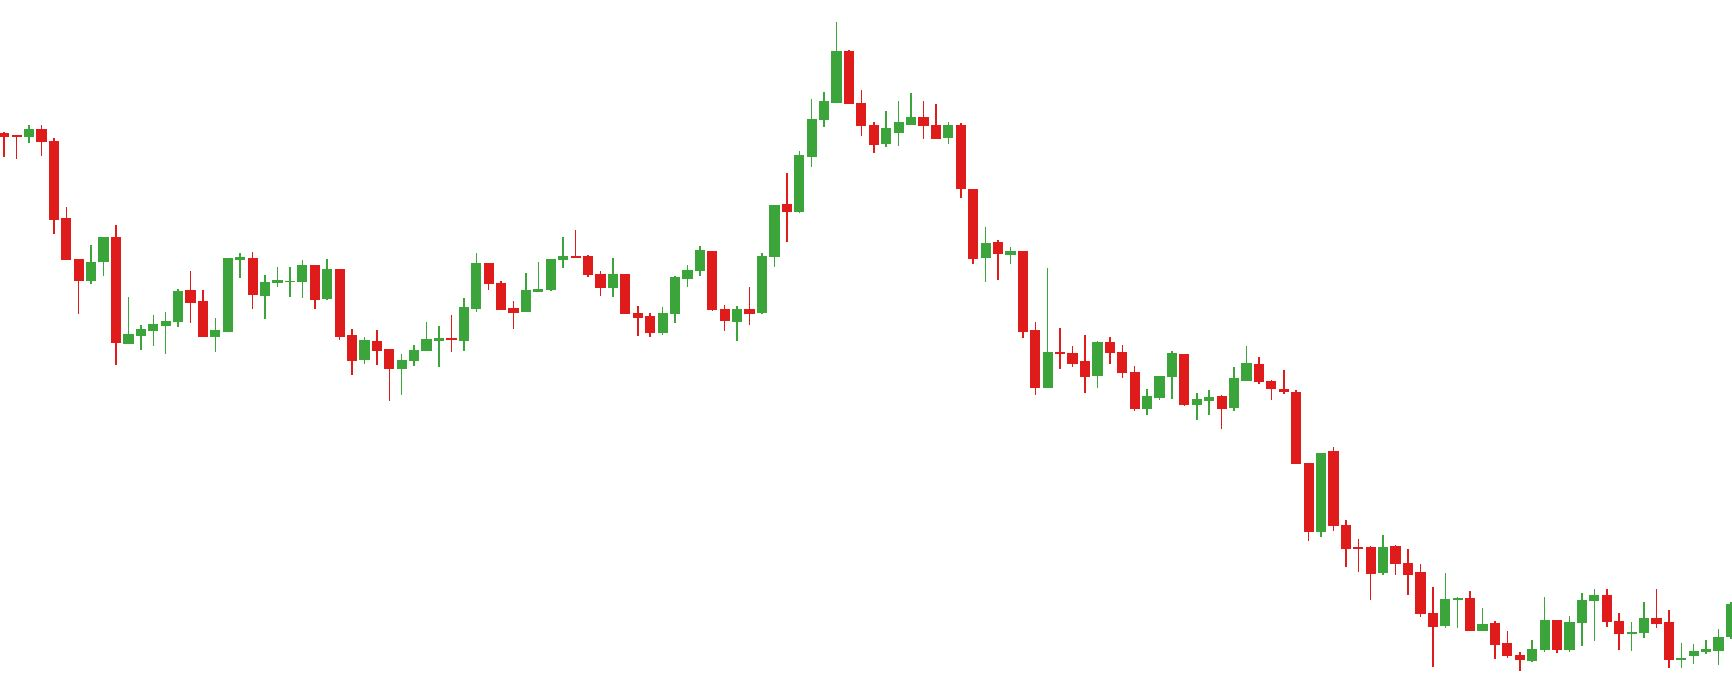buy: (211, 280, 372, 386), (507, 275, 670, 341)
sell: (1166, 346, 1265, 398)
